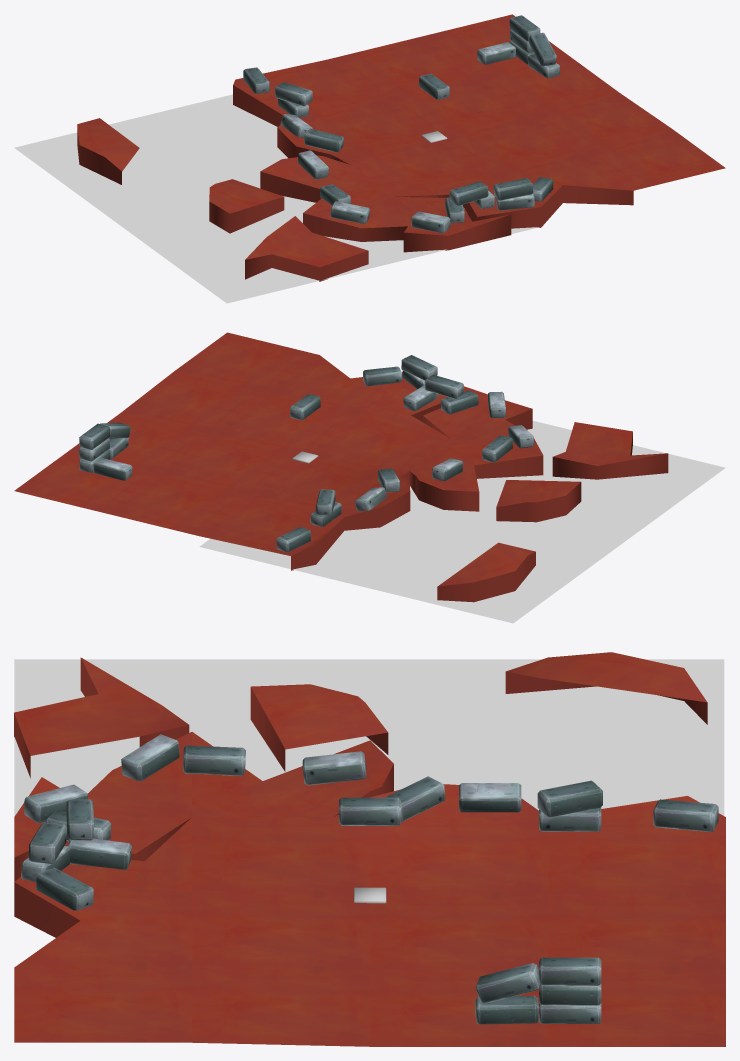
The model's file is IsoTest.fbx.
The picture shows the model from 3 angles, top to bottom: view 1: azimuth 30°, elevation 25°; view 2: azimuth 150°, elevation 25°; view 3: azimuth 270°, elevation 25°; orthographic projection. The views are drawn at different scales.
Parts seen in each view (by area): view 1: Ground, Lava, Ground.001, brick.004, brick.007, brick.013, brick.015, brick.008, brick.020, brick.001, brick.019, brick.005 (+3 smaller); view 2: Ground, Lava, Ground.001, brick.015, brick.020, brick.010, brick.013, brick.002, brick.009, brick.006, brick.018, brick.014 (+3 smaller); view 3: Ground, Lava, Ground.001, brick.003, brick.002, brick.005, brick.001, brick.014, brick.018, brick.006, brick.019, brick.007 (+11 smaller).
Boxes of the visible parts, x1,y1,x2,y2 form: Ground: [77, 14, 725, 267]; Lava: [14, 94, 539, 303]; Ground.001: [77, 85, 633, 281]; brick.004: [304, 128, 343, 152]; brick.007: [330, 201, 369, 223]; brick.013: [493, 178, 533, 200]; brick.015: [449, 181, 488, 205]; brick.008: [411, 211, 450, 233]; brick.020: [477, 42, 515, 64]; brick.001: [275, 82, 312, 106]; brick.019: [529, 32, 556, 66]; brick.005: [297, 150, 328, 179]; Ground: [14, 332, 666, 586]; Lava: [199, 420, 725, 623]; Ground.001: [291, 403, 668, 602]; brick.015: [425, 374, 463, 398]; brick.020: [93, 458, 132, 480]; brick.010: [363, 366, 402, 386]; brick.013: [401, 355, 437, 380]; brick.002: [276, 527, 310, 552]; brick.009: [440, 390, 478, 414]; brick.006: [482, 435, 512, 462]; brick.018: [79, 423, 110, 449]; brick.014: [290, 394, 320, 420]; Ground: [14, 652, 725, 1046]; Lava: [14, 659, 724, 816]; Ground.001: [14, 658, 707, 937]; brick.003: [459, 783, 521, 812]; brick.002: [653, 799, 718, 831]; brick.005: [302, 751, 366, 785]; brick.001: [537, 780, 602, 817]; brick.014: [339, 797, 401, 825]; brick.018: [539, 957, 601, 985]; brick.006: [183, 745, 245, 775]; brick.019: [475, 963, 539, 1003]; brick.007: [121, 734, 179, 781].
Size of the model in its own units: 21.6 by 2.84 by 16.
